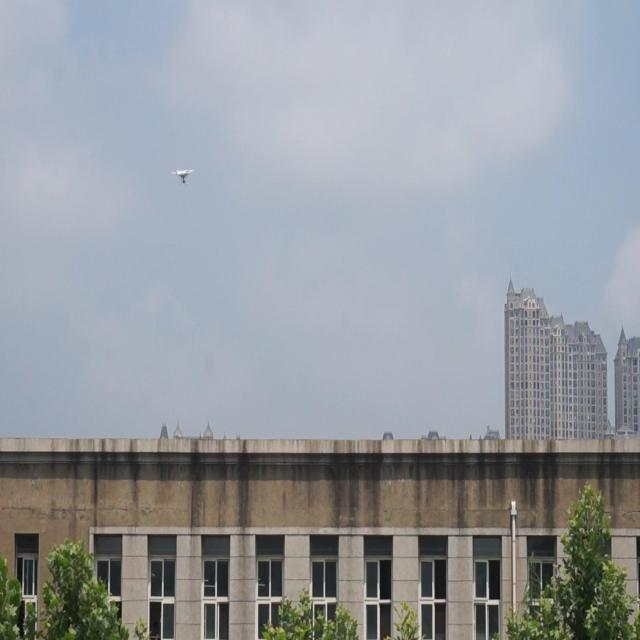drone: (171, 168, 195, 188)
